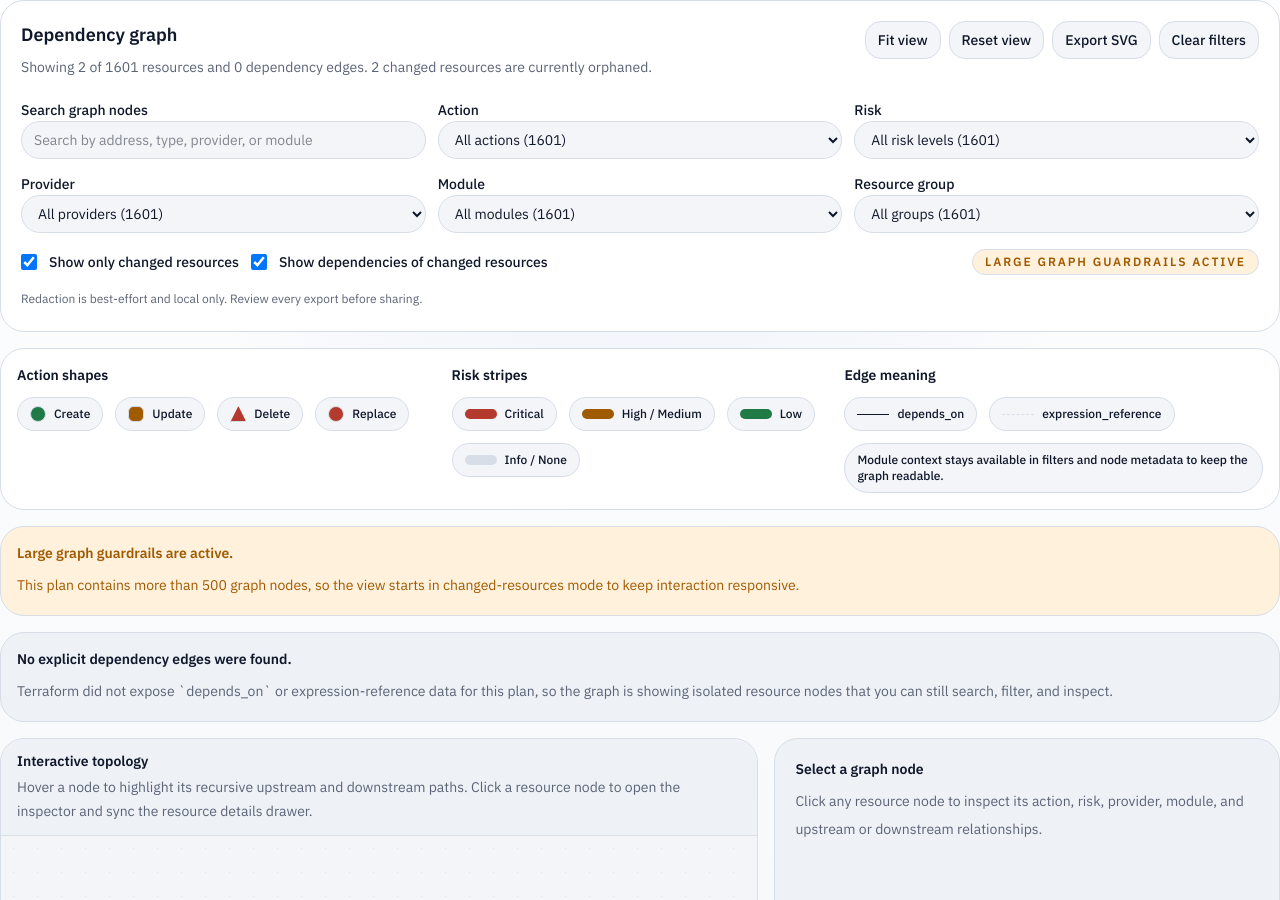
it: PlanGraphView › enables large-graph guardrails and blocks unfiltered rendering for very large graphs
The width and height of the screenshot is (1280, 900).
Expected: the text "Large graph guardrails are active." is shown, [17,544,233,562]
Expected: the text "Showing 2 of 1601 resources" is shown, [21,58,652,76]
Click the checkbox labelled "Show only changed resources" at (29, 262), box [21,254,37,270]
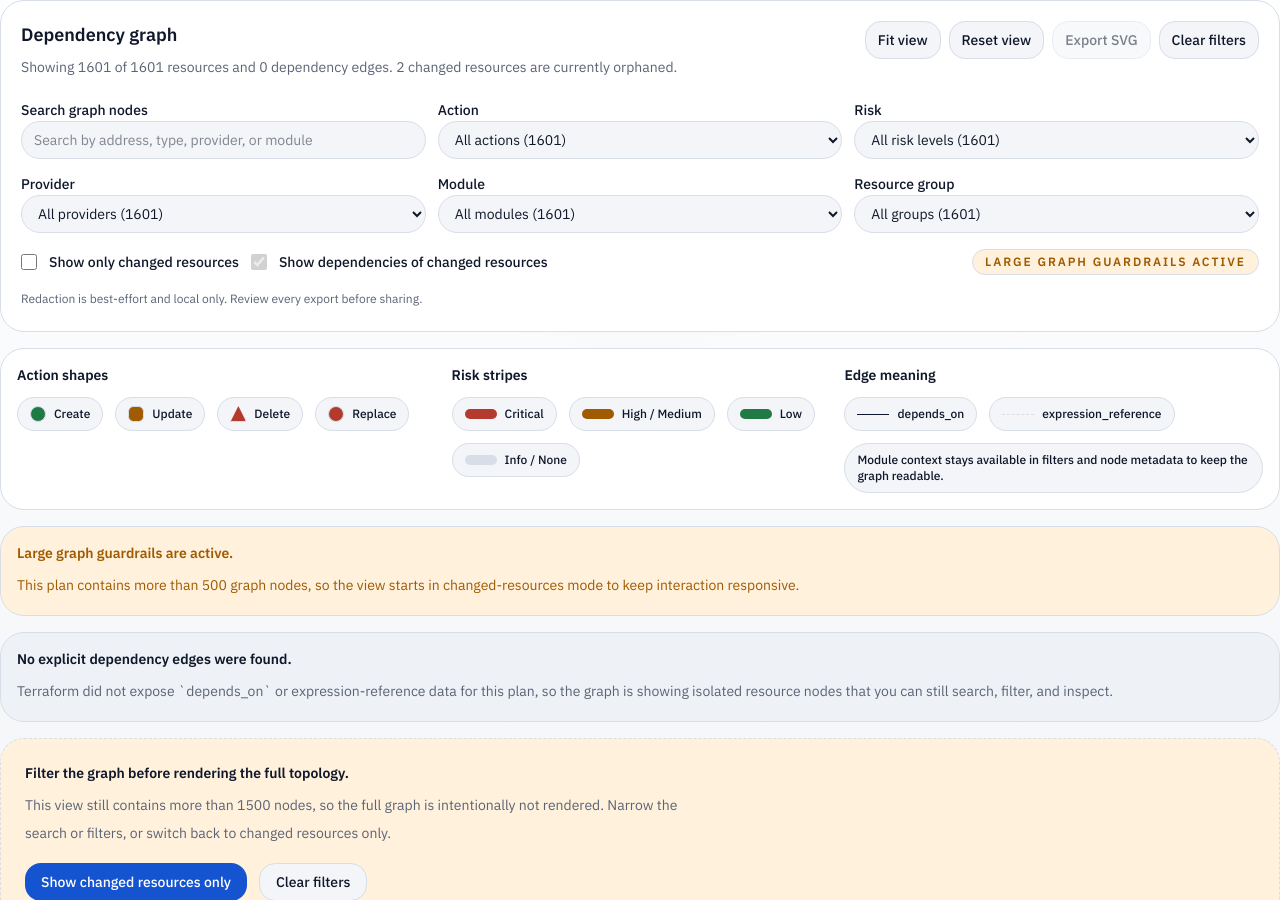
Result: the text "Filter the graph before rendering the full topology." is shown at [25,764,349,782]
